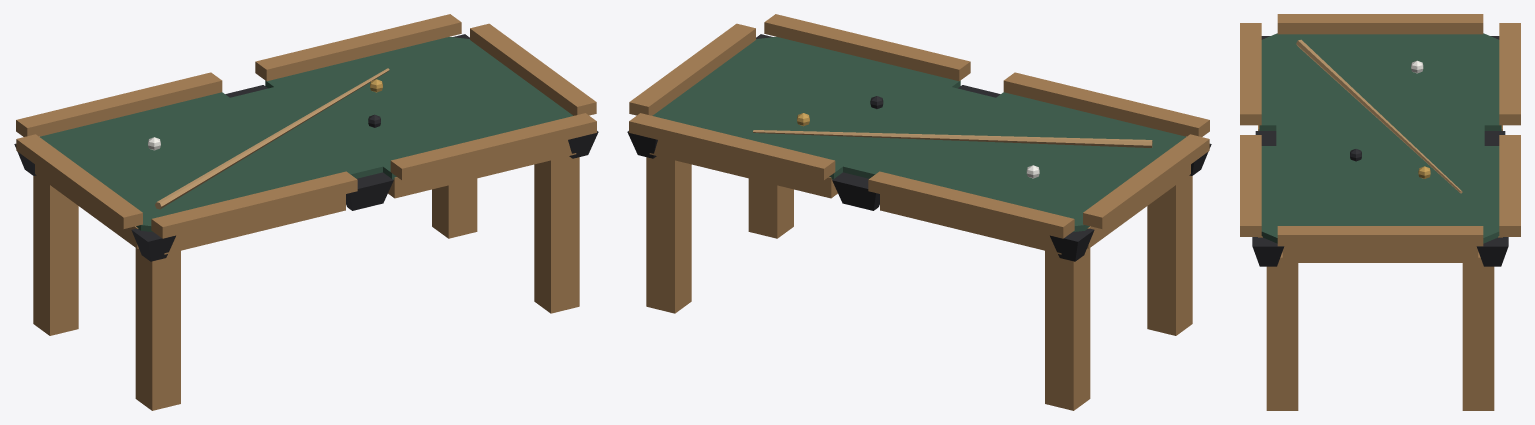
The model's file is FN_Table_Pool.glb.
3 views of the same model, side by side, from view 1: azimuth 30°, elevation 25°; view 2: azimuth 150°, elevation 25°; view 3: azimuth 270°, elevation 25° (orthographic). The views are drawn at different scales.
Parts seen in each view (by area): view 1: FN_Table_Pool; view 2: FN_Table_Pool; view 3: FN_Table_Pool.
Boxes of the visible parts, x1,y1,x2,y2 form: FN_Table_Pool: (14,14,598,410); FN_Table_Pool: (627,14,1211,410); FN_Table_Pool: (1240,14,1520,410).
Size of the model in its own units: 2.14 by 0.848 by 1.15.
Materials: 1 (1 with a texture image).
